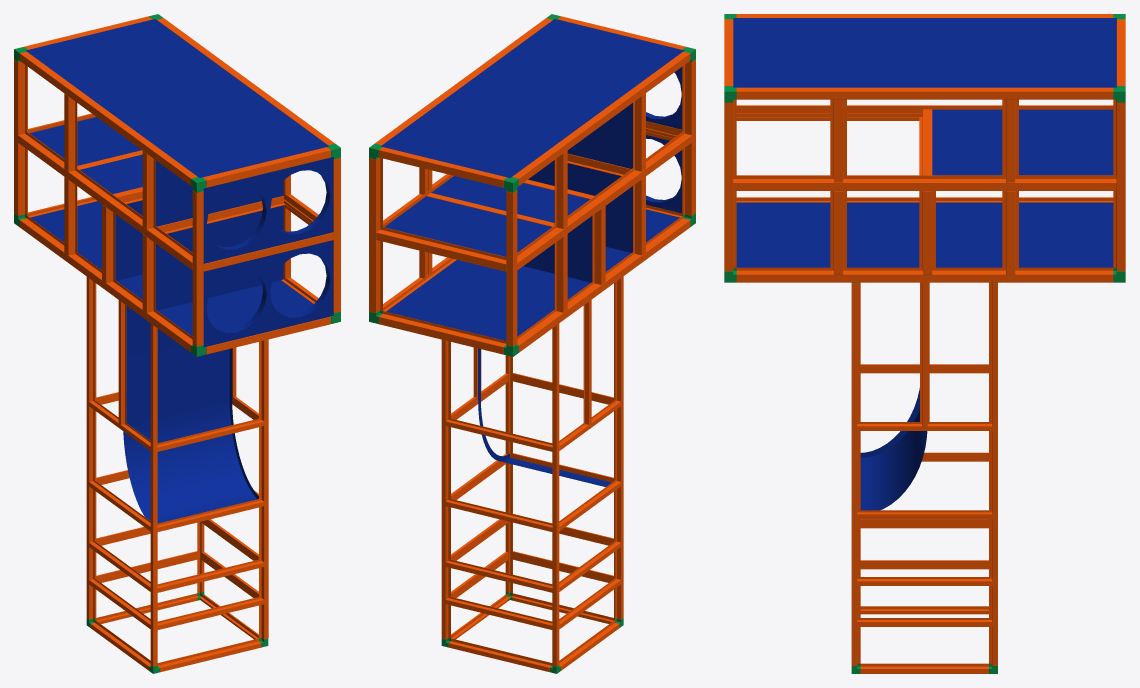
The model's file is rama1.FBX.
3 renders of one model, left to right at view 1: azimuth 30°, elevation 25°; view 2: azimuth 150°, elevation 25°; view 3: azimuth 270°, elevation 25°, orthographic. The views are drawn at different scales.
Visible parts, largest first — view 1: Object003; view 2: Object003; view 3: Object003.
Part boxes in pixels (x1,y1,x2,y2): Object003: [14, 14, 340, 673]; Object003: [369, 14, 695, 673]; Object003: [724, 14, 1125, 673].
Bounding box in the file's own units: 1000 × 3556 × 2192.
